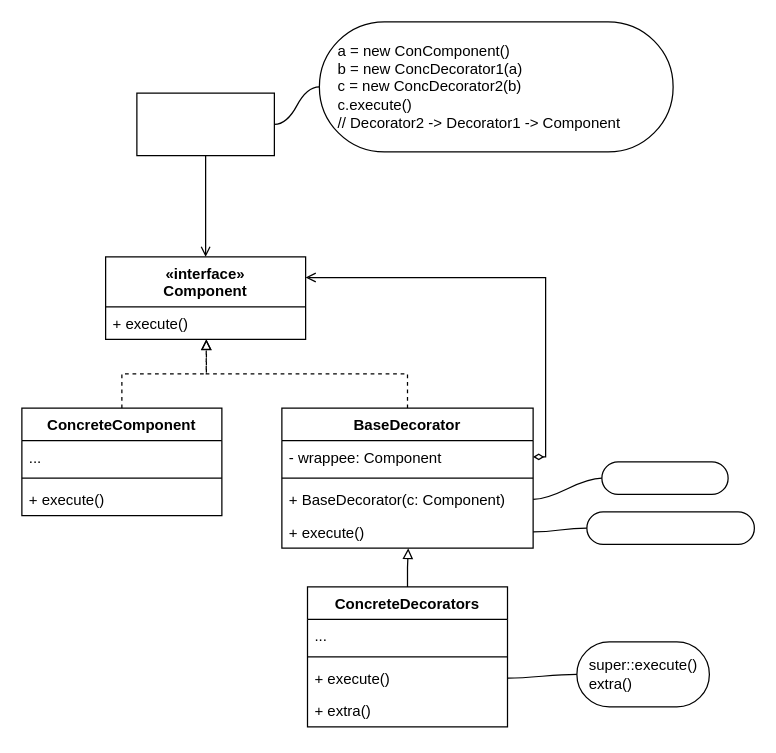
This 776x753 diagram has some shape labels left out. The shapes that lost their labels are listed below. From the top down, each one's centre as x and y in pixels, then its label:
the point at 205,124: Client
the point at 664,477: wrappee = c
the point at 670,527: wrappee.execute()
